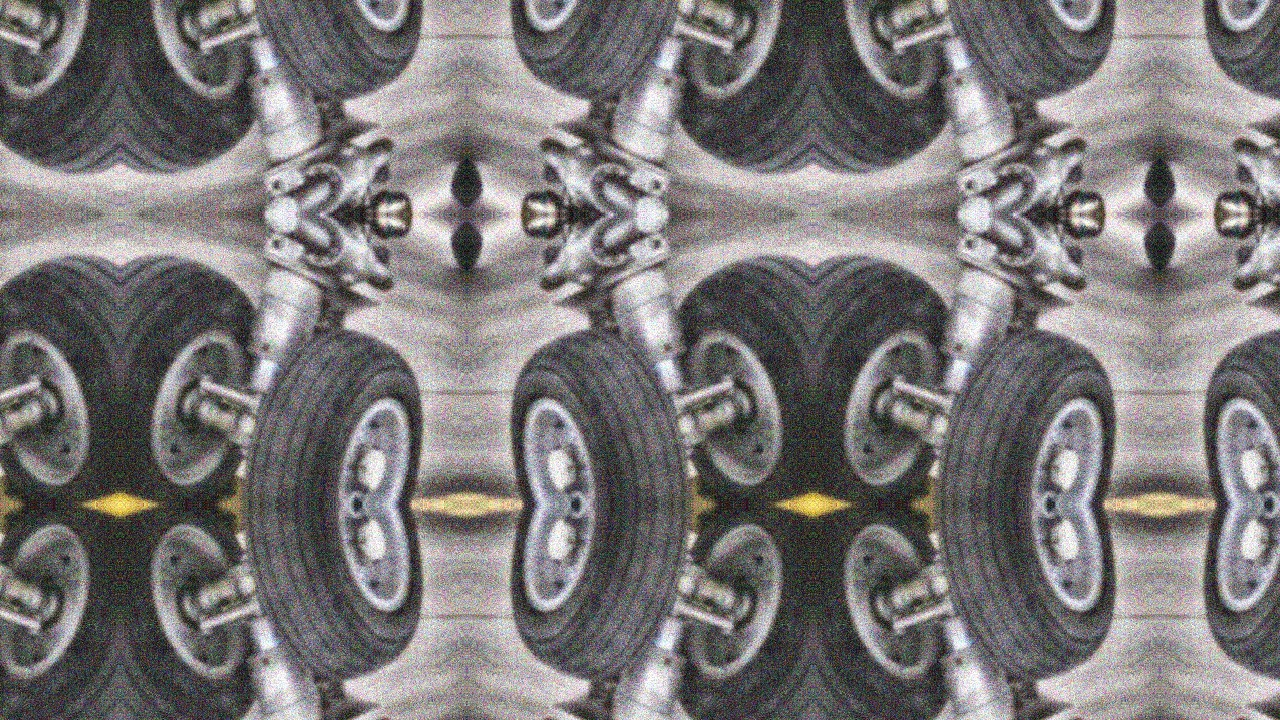wheel: (119, 215, 277, 505), (656, 215, 814, 505), (814, 215, 971, 505), (227, 298, 445, 505), (488, 298, 706, 505), (921, 298, 1139, 505), (227, 505, 445, 712), (488, 505, 706, 712), (921, 505, 1139, 712), (0, 215, 120, 505), (119, 505, 277, 720), (656, 505, 814, 720), (119, 0, 277, 214), (656, 0, 814, 214), (814, 505, 971, 720), (814, 0, 971, 214), (227, 0, 445, 131), (488, 0, 706, 131), (921, 0, 1139, 131), (0, 505, 120, 720), (0, 0, 120, 214), (1182, 298, 1280, 505), (1182, 505, 1280, 712), (1182, 0, 1280, 131), (445, 147, 467, 191), (466, 147, 488, 191), (1160, 147, 1182, 191), (445, 238, 467, 282), (466, 238, 488, 282), (1160, 238, 1182, 282), (1139, 147, 1160, 191), (1139, 238, 1160, 282), (1160, 172, 1177, 215), (1160, 215, 1177, 257), (450, 172, 466, 215), (467, 172, 483, 215), (1144, 172, 1160, 215), (450, 215, 466, 257), (467, 215, 483, 257), (1144, 215, 1160, 257)
